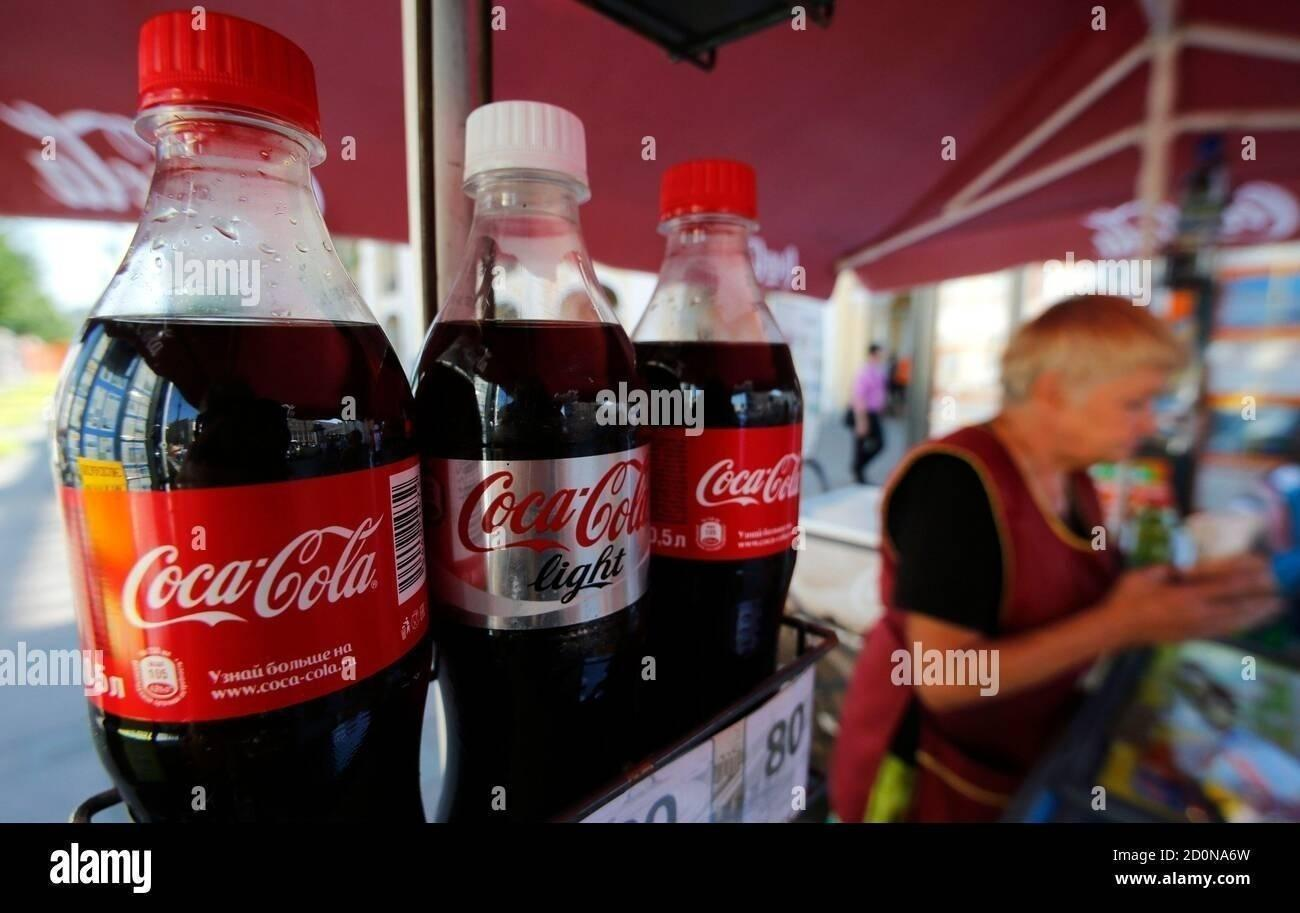bottle-plastic: (44, 0, 436, 820), (401, 95, 659, 732), (602, 154, 811, 726)
